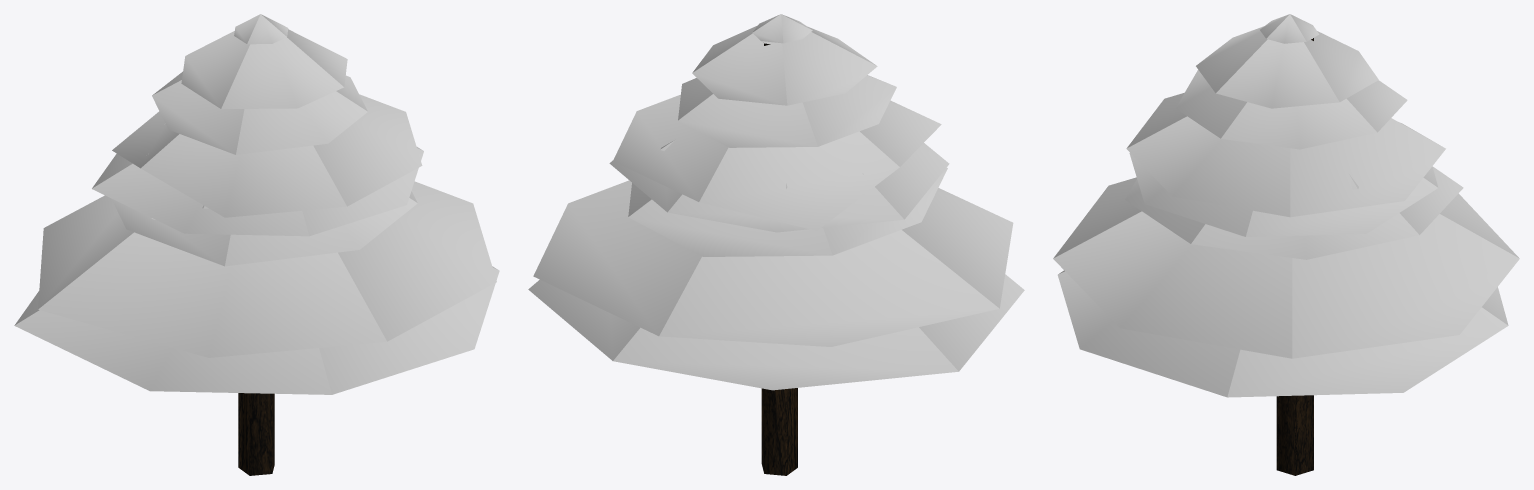
File: Geo_PineTree.FBX
3 views of the same model, side by side, from view 1: azimuth 30°, elevation 25°; view 2: azimuth 150°, elevation 25°; view 3: azimuth 270°, elevation 25° (orthographic).
Visible parts, largest first — view 1: Plane026, Plane025, Plane029, Plane030, Plane027, Plane028, Plane023, Cylinder002, Plane031; view 2: Plane026, Plane029, Plane025, Plane030, Plane028, Plane023, Plane027, Cylinder002, Plane031; view 3: Plane026, Plane029, Plane025, Plane030, Plane028, Plane023, Plane027, Cylinder002, Plane031.
Boxes of the visible parts, x1,y1,x2,y2 form: Plane026: (38,181,496,357); Plane025: (14,266,499,394); Plane029: (112,94,422,217); Plane030: (181,29,347,108); Plane027: (92,135,423,236); Plane028: (152,71,367,154); Plane023: (111,191,417,266); Cylinder002: (238,393,274,475); Plane031: (234,14,288,44); Plane026: (533,180,1013,346); Plane029: (613,94,941,230); Plane025: (528,274,1024,390); Plane030: (692,25,877,105); Plane028: (678,75,896,147); Plane023: (628,167,947,256); Plane027: (609,143,949,232); Cylinder002: (761,43,797,475); Plane031: (752,14,812,43); Plane026: (1053,177,1519,358); Plane029: (1126,93,1445,217); Plane025: (1057,270,1508,397); Plane030: (1196,26,1378,108); Plane028: (1175,70,1407,149); Plane023: (1125,166,1463,259); Plane027: (1129,153,1438,236); Cylinder002: (1276,38,1313,475); Plane031: (1260,14,1319,43).
Size of the model in its own units: 51.14 by 51.22 by 47.77.
